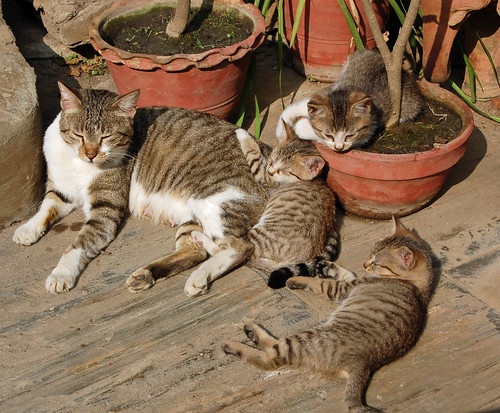cat: (12, 79, 360, 305), (219, 210, 459, 411), (221, 112, 349, 295), (304, 45, 431, 165)
